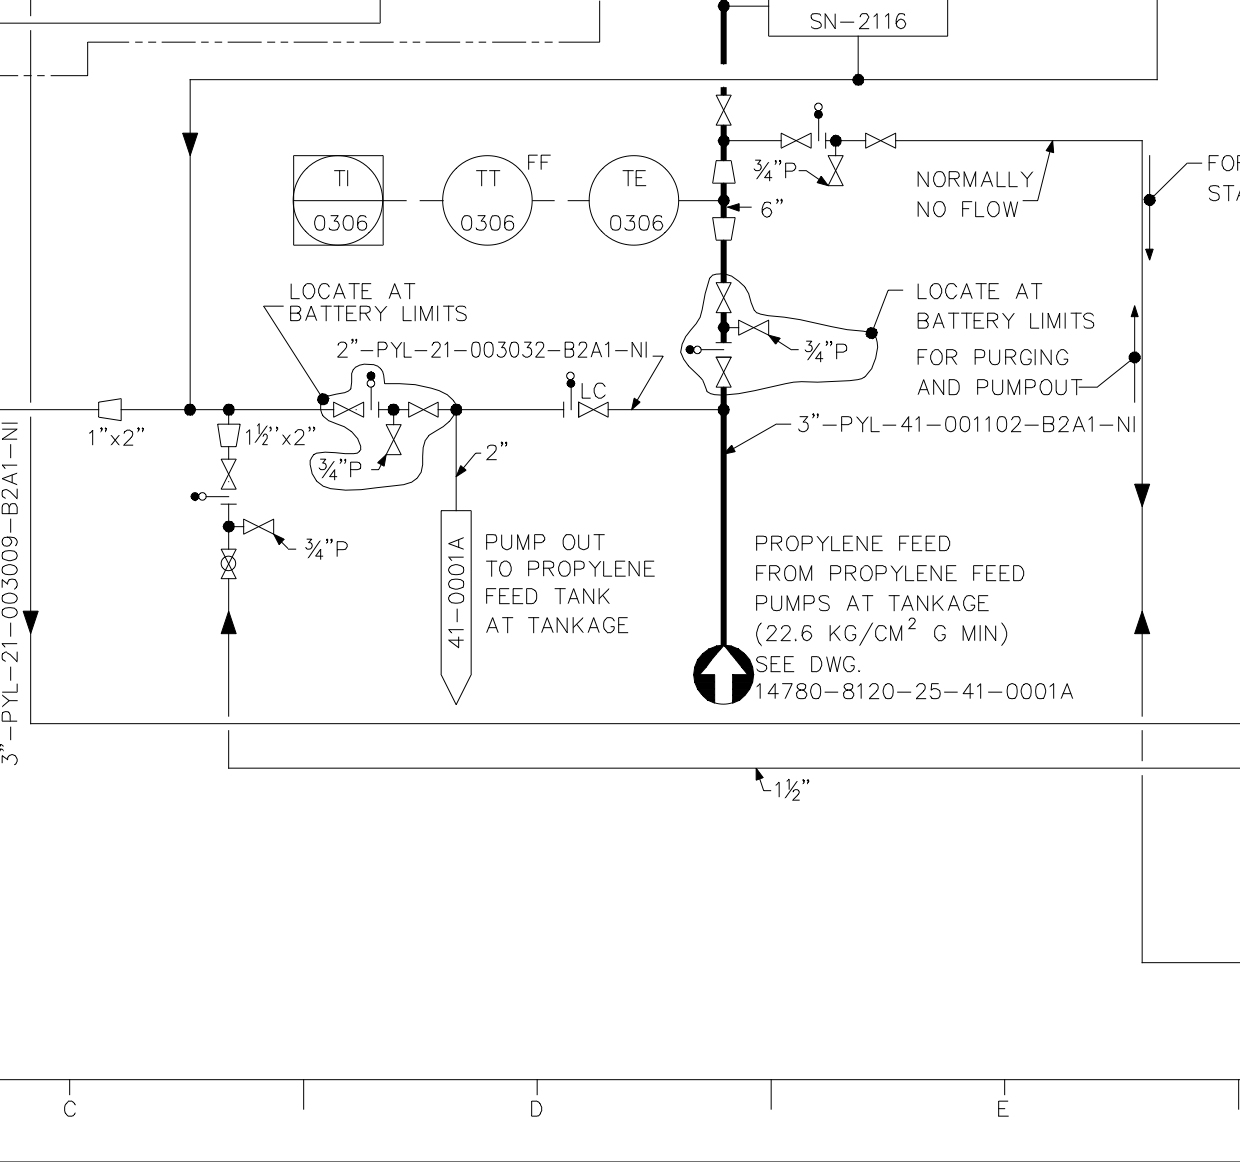Line Number: (333, 333, 650, 361), (1, 417, 22, 771)
Page Out: (434, 503, 477, 713)
Reducer: (93, 394, 129, 423)
Spetacle Blind: (558, 367, 583, 422), (187, 485, 241, 506), (807, 100, 828, 154), (684, 338, 737, 359), (364, 370, 382, 417)
